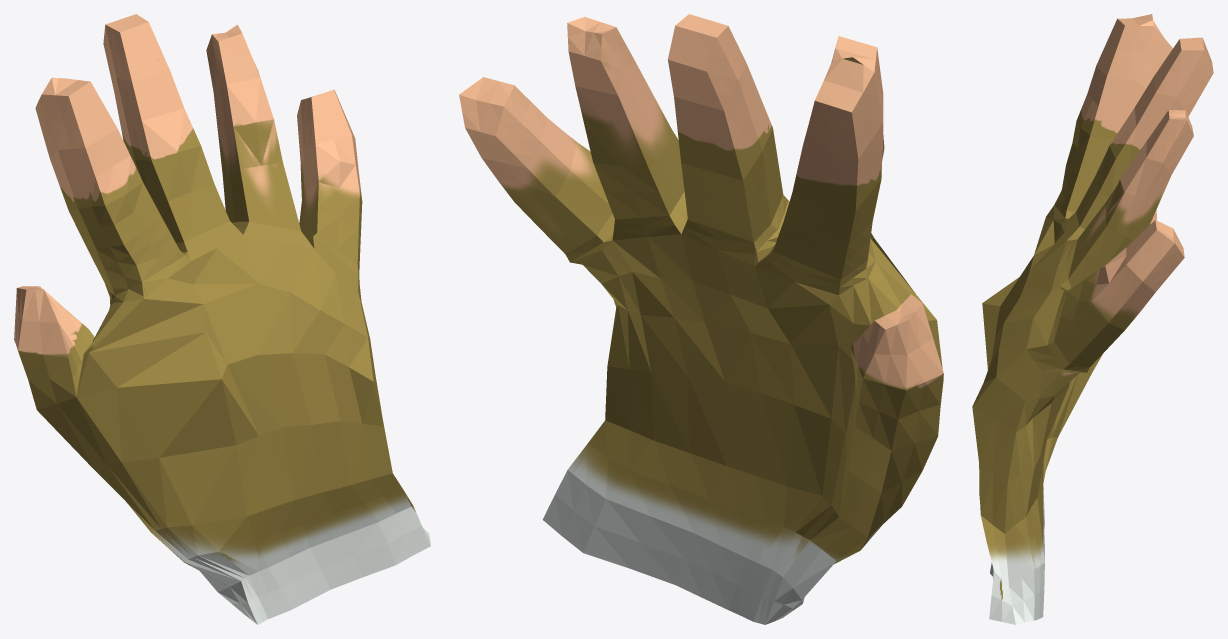
The model's file is flexion0016.obj.
3 views of the same model, side by side, from view 1: azimuth 30°, elevation 25°; view 2: azimuth 150°, elevation 25°; view 3: azimuth 270°, elevation 25° (orthographic). The views are drawn at different scales.
Visible parts, largest first — view 1: Hand; view 2: Hand; view 3: Hand.
Part boxes in pixels (x1,y1,x2,y2): Hand: (14, 14, 430, 624); Hand: (459, 14, 943, 624); Hand: (972, 14, 1213, 624).
Size of the model in its own units: 3.27 by 4.64 by 1.96.
